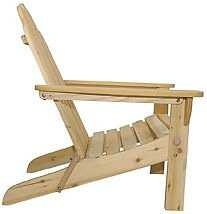obstacle: (1, 0, 205, 201)
